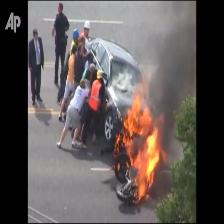fire: (118, 105, 162, 194)
smoke: (162, 34, 190, 100)
